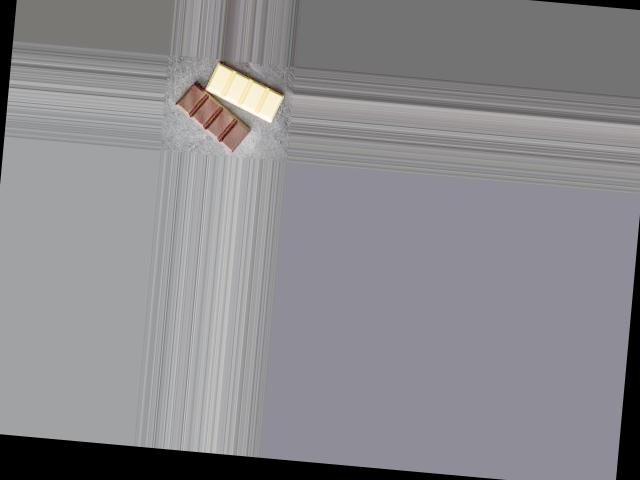chocolate: (172, 60, 291, 155)
